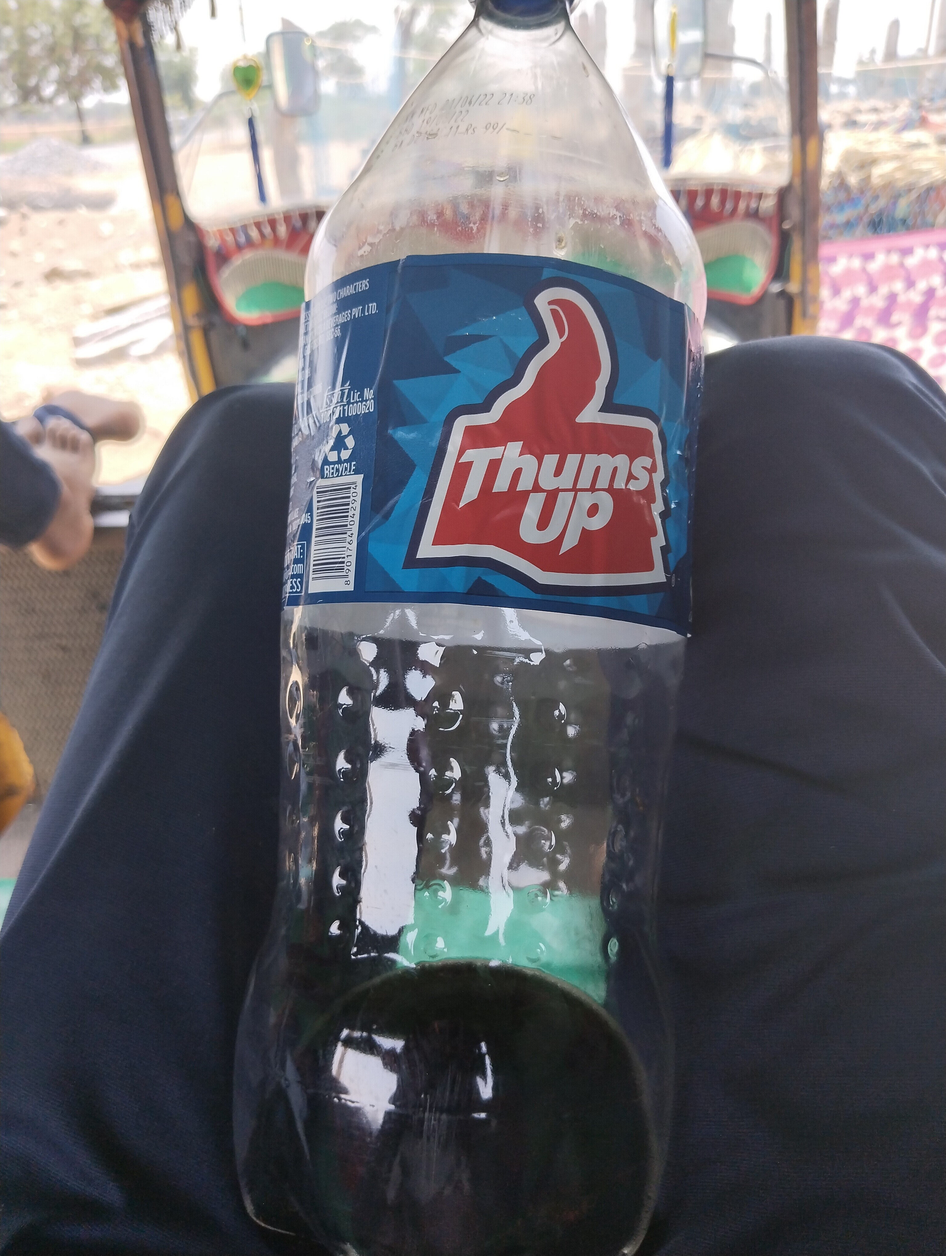Thumsup: (85, 113, 861, 1143)
